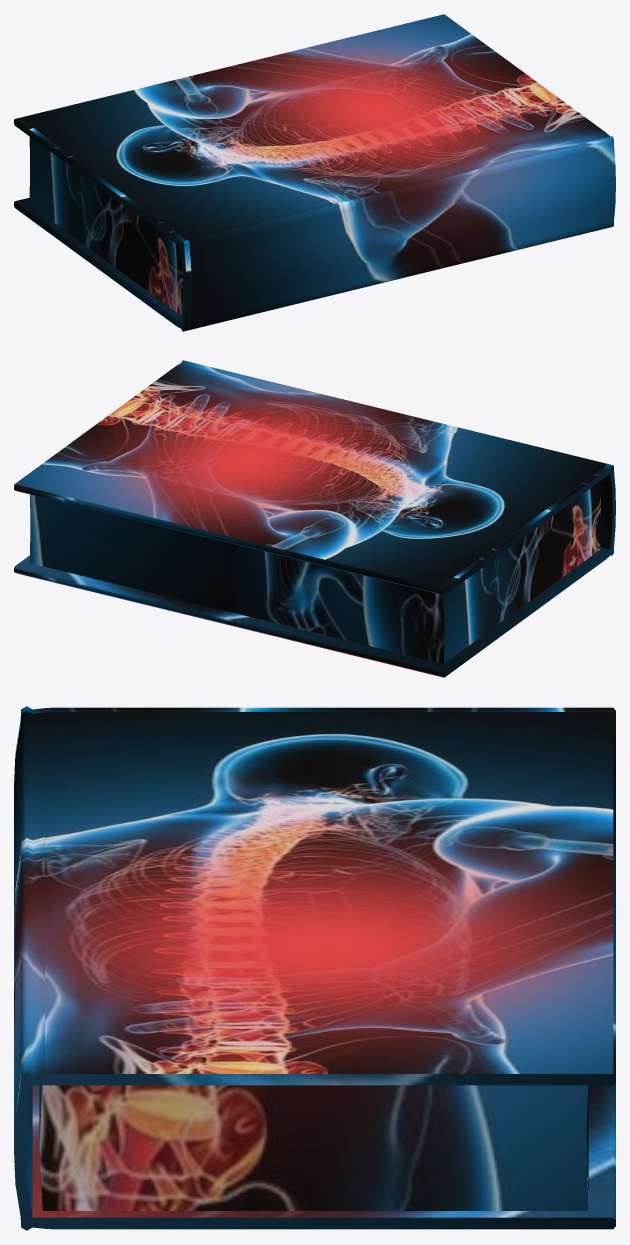
Rendered from kitap.fbx.
3 views of the same model, one above another, from view 1: azimuth 30°, elevation 25°; view 2: azimuth 150°, elevation 25°; view 3: azimuth 270°, elevation 25° (orthographic). The views are drawn at different scales.
Visible parts, largest first — view 1: book_a_0; view 2: book_a_0; view 3: book_a_0.
Part boxes in pixels (box(x1,y1,x2,y2)): book_a_0: box(14, 14, 615, 331); book_a_0: box(14, 360, 615, 677); book_a_0: box(14, 706, 615, 1230).
Size of the model in its own units: 2010 by 406 by 1397.
